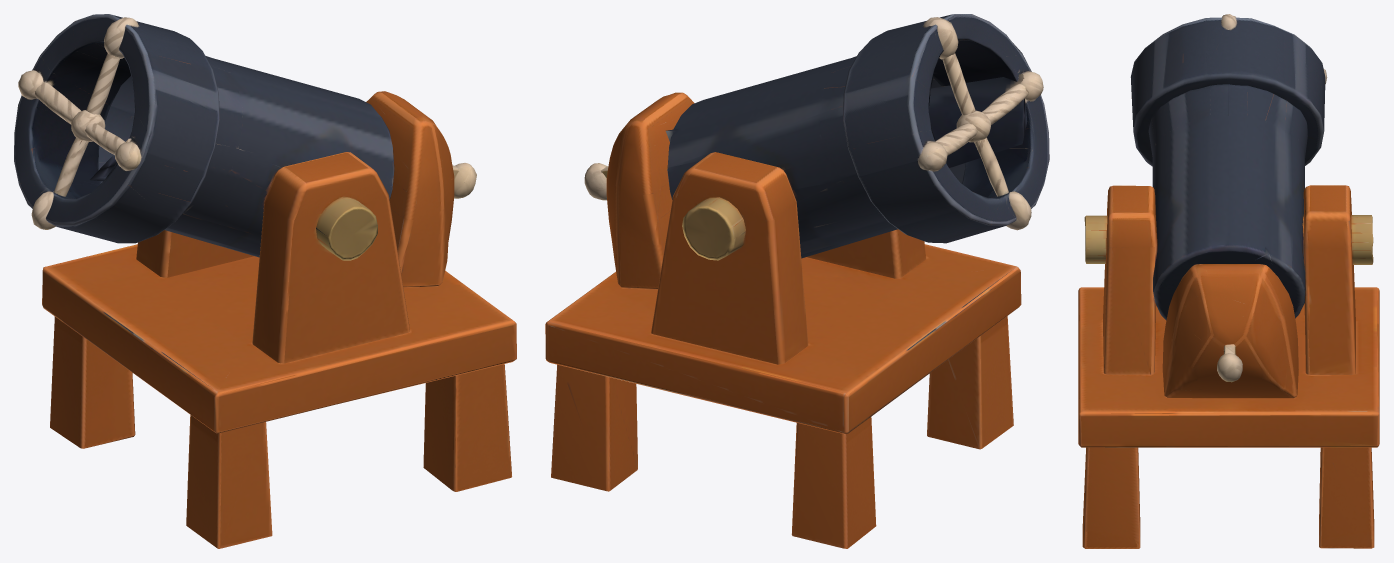
Rendered from netLauncher.glb.
3 views of the same model, side by side, from view 1: azimuth 30°, elevation 25°; view 2: azimuth 150°, elevation 25°; view 3: azimuth 270°, elevation 25° (orthographic). The views are drawn at different scales.
Size of the model in its own units: 0.9805 by 1 by 0.6738.
1 material, 1 textured.
